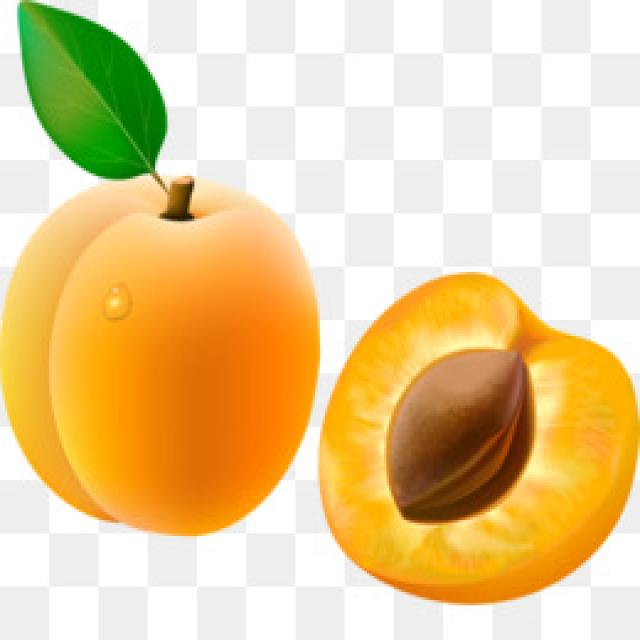Cekirdek: (386, 349, 524, 517)
Kayisi: (0, 176, 318, 533)
Yaprak: (20, 3, 165, 189)
